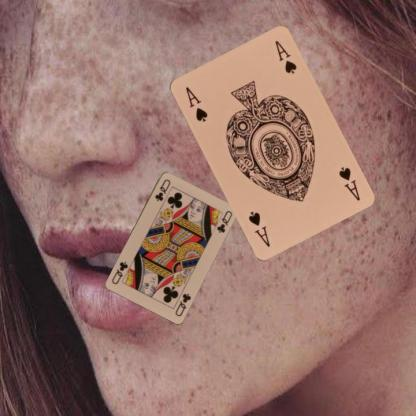As: (182, 84, 209, 123), (336, 164, 361, 202)
Qc: (172, 290, 192, 317), (152, 176, 172, 202)
